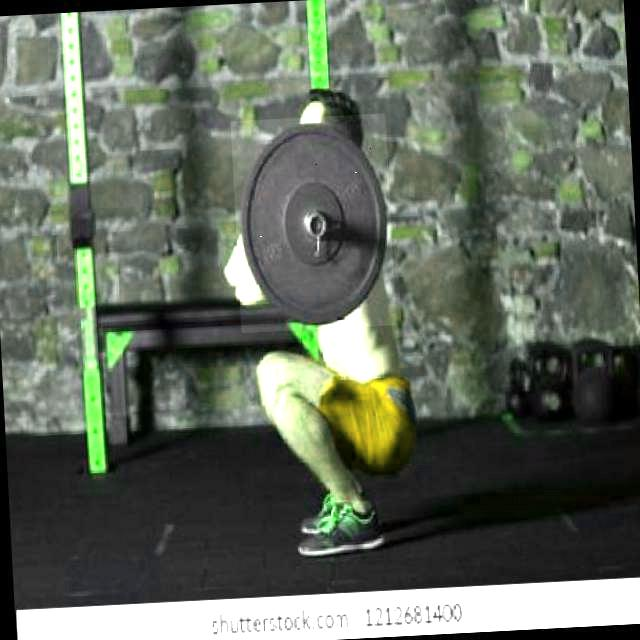barbell: (232, 113, 397, 334)
